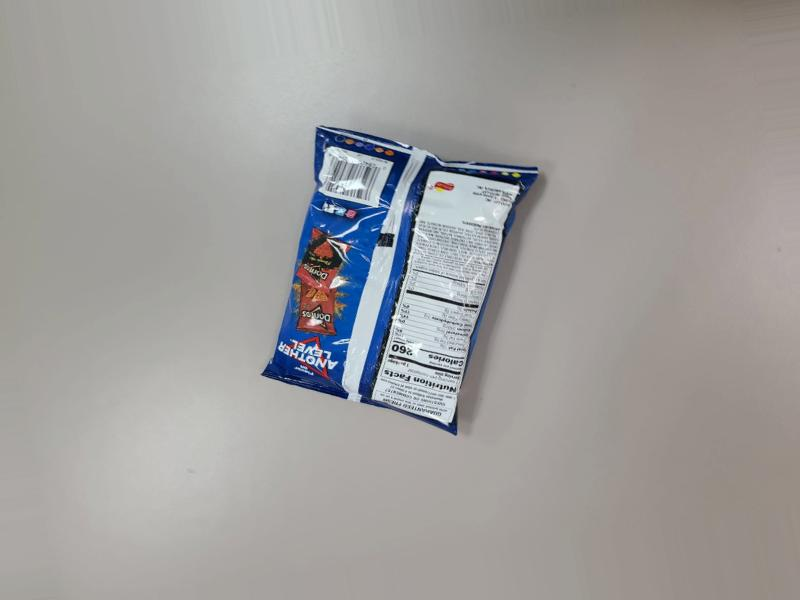doritos: (253, 147, 515, 453)
